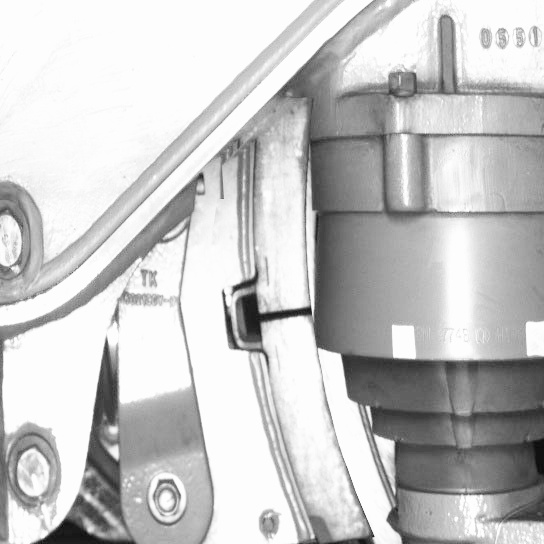ClosedKnifeSwitch: (258, 135, 383, 541)
